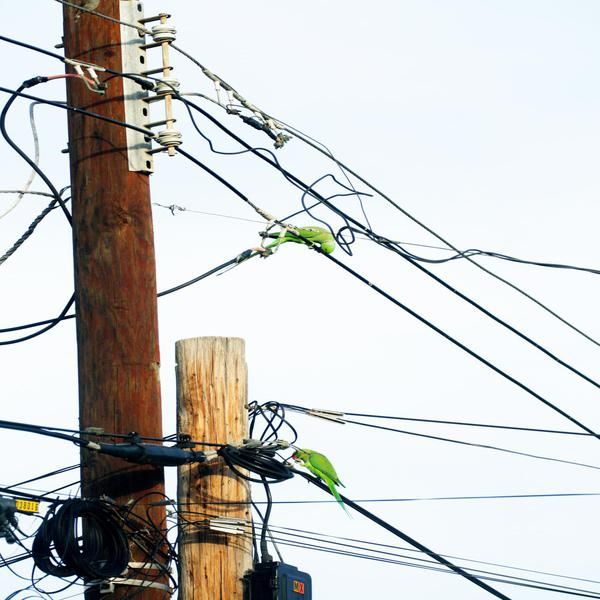utility_pole: (3, 1, 402, 599)
